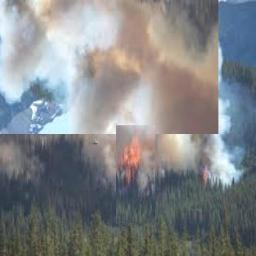Heavy smoke: (0, 0, 217, 132), (116, 125, 256, 198)
